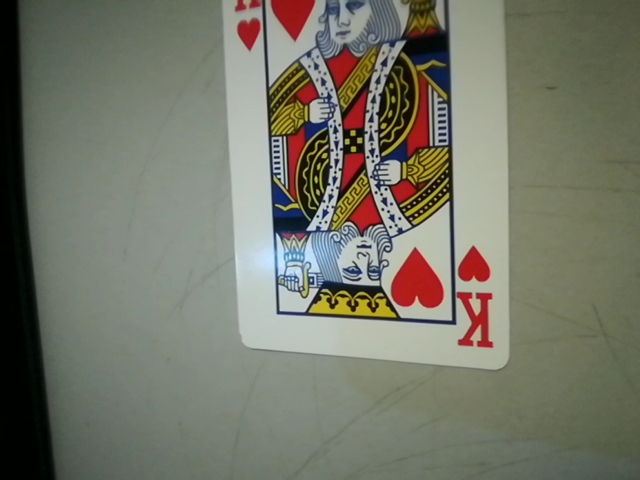hx k: (449, 238, 507, 359)
